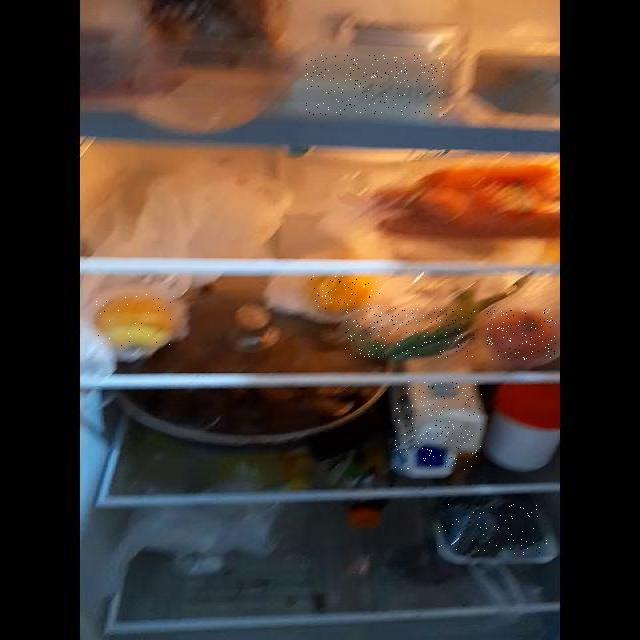broccoli: (438, 502, 550, 556)
cheese: (306, 55, 446, 115)
green chilies: (345, 308, 475, 358)
lemon: (95, 293, 176, 349), (311, 276, 381, 310)
milk: (394, 381, 482, 470)
tomato: (487, 309, 557, 360)
